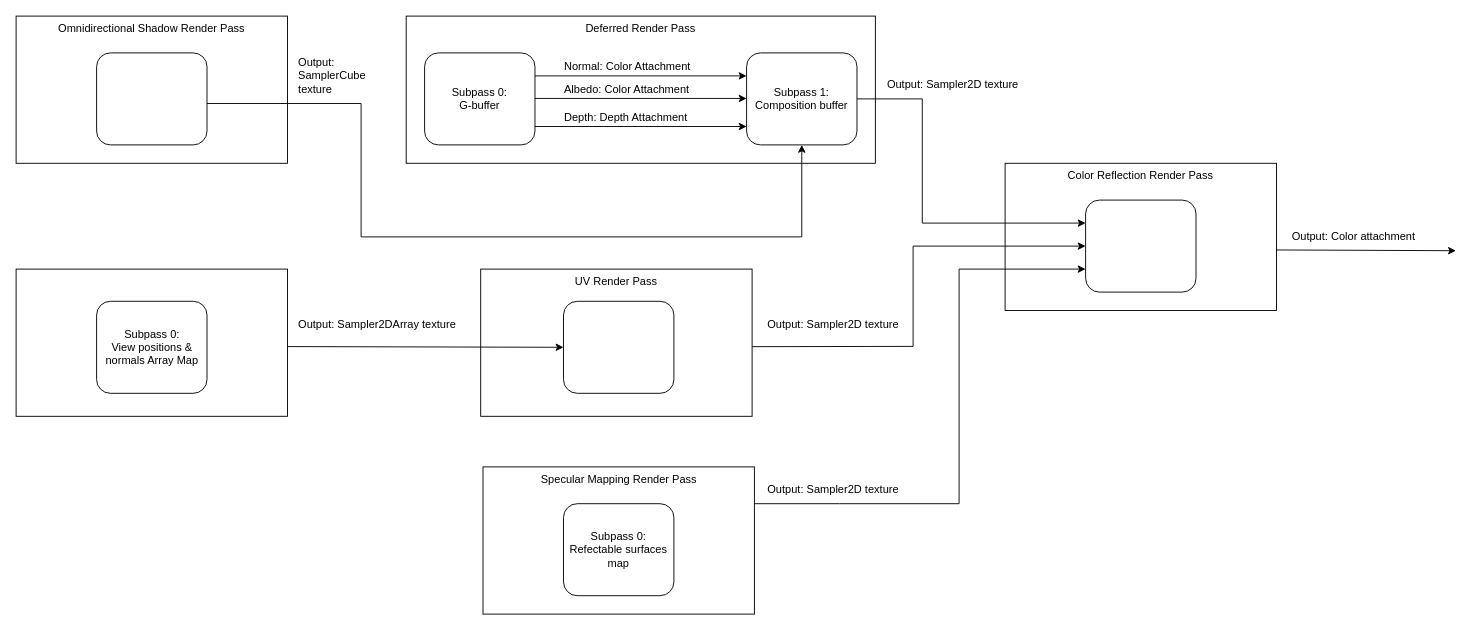
Image size: 1479x630. Some labels were removed from this diagram. The shapes that lost their labels are listed below. From the top down, each one's box as (x1, y1, x2, y2) in pixels, then its label:
(96, 52, 207, 145): Subpass 0: Length Cube Map
(1085, 199, 1196, 292): Subpass 0: Scene with reflections
(15, 268, 288, 416): Mappings Render Pass
(563, 300, 674, 393): Subpass 0: UV position being reflected per-fragment
